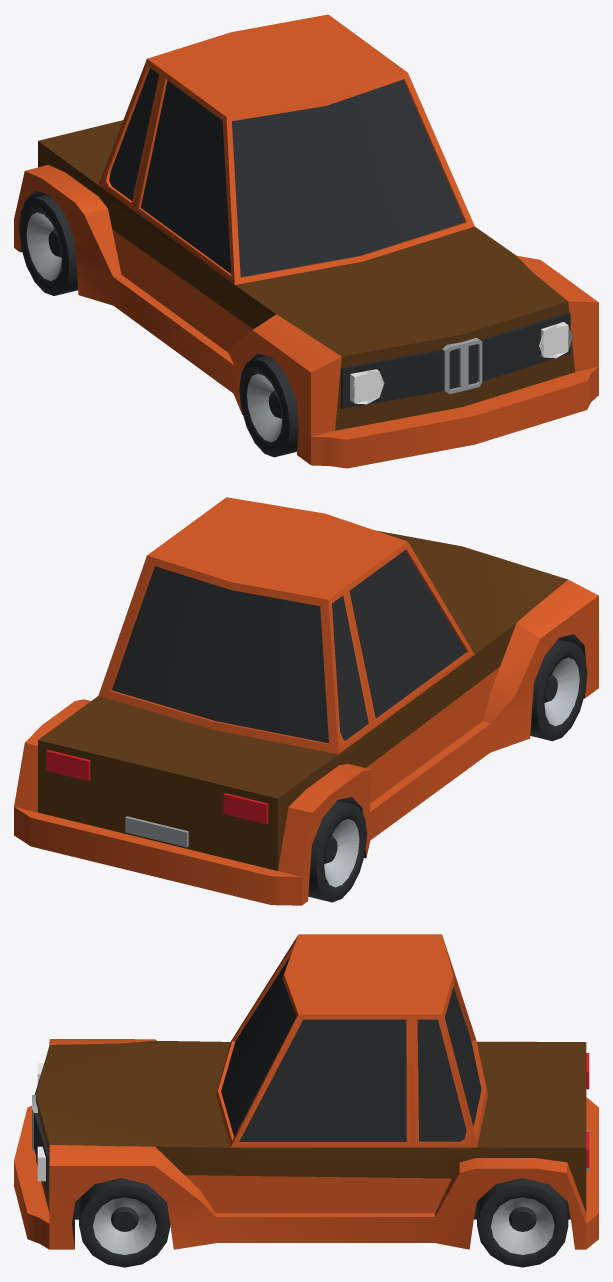
The model's file is Car_6.fbx.
3 renders of one model, top to bottom at view 1: azimuth 30°, elevation 25°; view 2: azimuth 150°, elevation 25°; view 3: azimuth 270°, elevation 25°, orthographic. The views are drawn at different scales.
Parts seen in each view (by area): view 1: Car6, Car6Wheel2, Car6Wheel4; view 2: Car6, Car6Wheel4, Car6Wheel2; view 3: Car6, Car6Wheel3, Car6Wheel1.
Part boxes in pixels (box(x1,y1,x2,y2)): Car6: box(14, 14, 598, 468); Car6Wheel2: box(239, 355, 298, 457); Car6Wheel4: box(19, 194, 77, 295); Car6: box(14, 497, 598, 905); Car6Wheel4: box(308, 800, 366, 902); Car6Wheel2: box(530, 639, 587, 741); Car6: box(14, 934, 598, 1249); Car6Wheel3: box(477, 1178, 568, 1267); Car6Wheel1: box(79, 1178, 170, 1267).
Size of the model in its own units: 299 by 240 by 558.
Materials: 1 (1 with a texture image).
